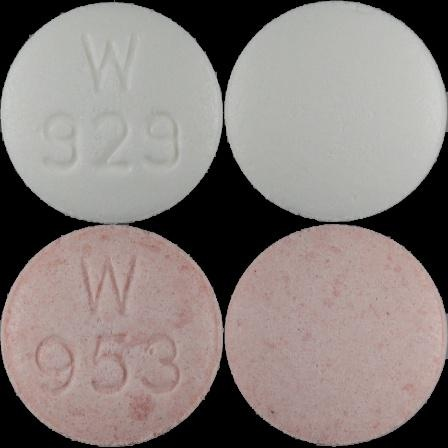0615-7641: (0, 0, 224, 224)
